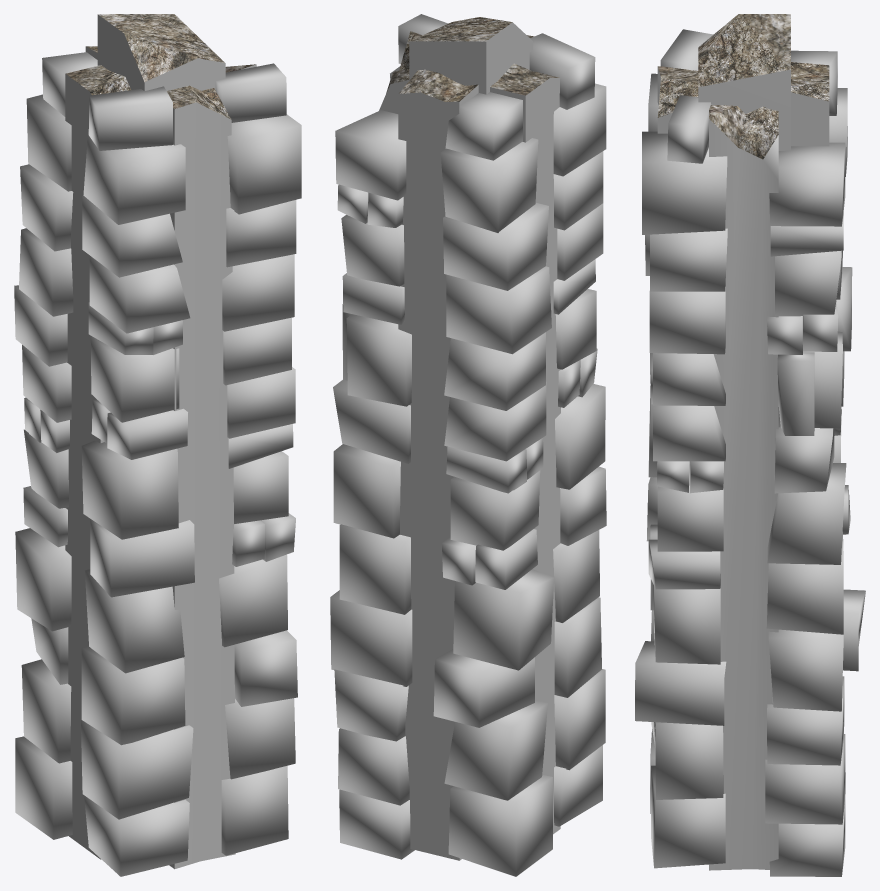
Rendered from Ruins_20A_LOD1.fbx.
3 views of the same model, side by side, from view 1: azimuth 30°, elevation 25°; view 2: azimuth 150°, elevation 25°; view 3: azimuth 270°, elevation 25° (orthographic).
Visible parts, largest first — view 1: polySurface3589; view 2: polySurface3589; view 3: polySurface3589.
Part boxes in pixels (x1,y1,x2,y2): polySurface3589: [14, 14, 301, 876]; polySurface3589: [330, 14, 606, 876]; polySurface3589: [635, 14, 865, 876].
Bounding box in the file's own units: 1.28 × 5.21 × 1.35.
